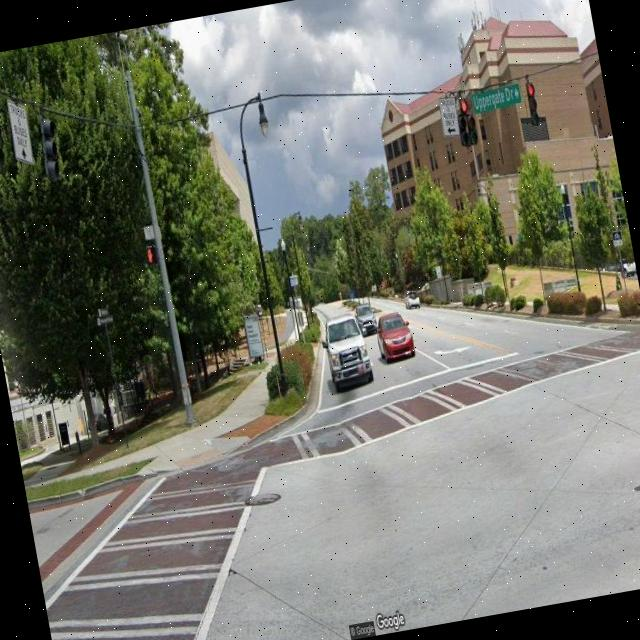shelter: (238, 304, 270, 366)
